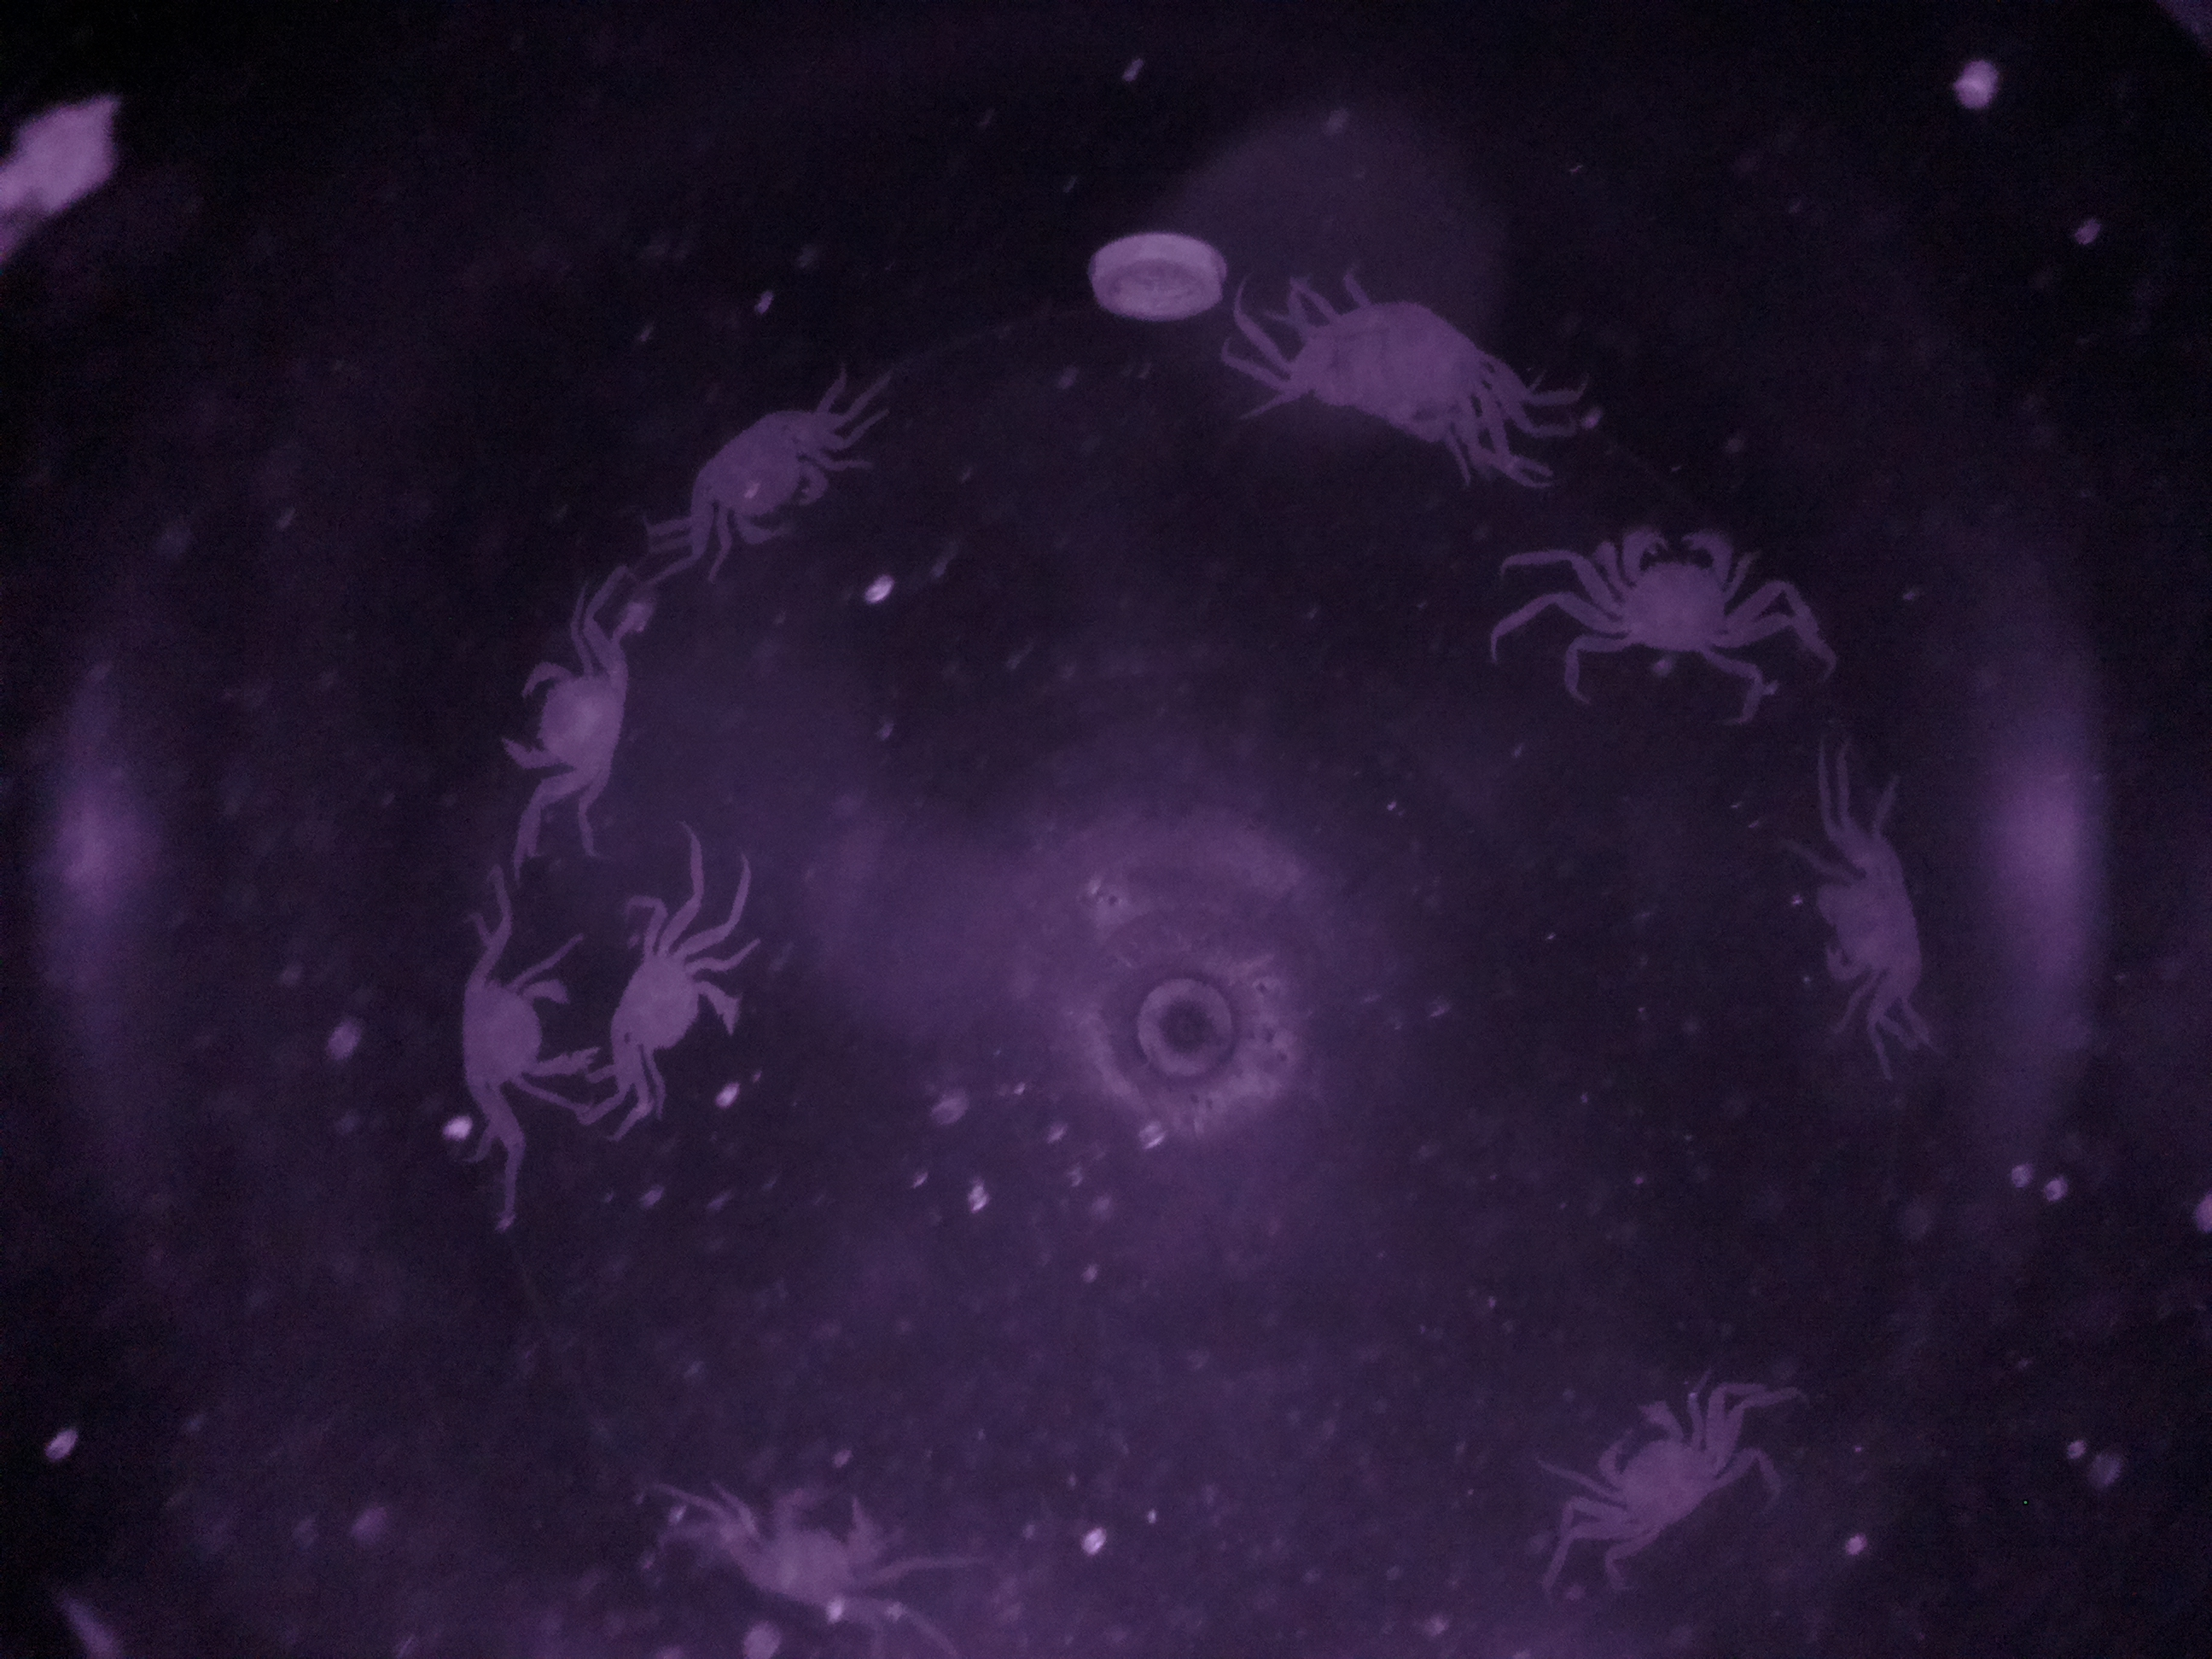Crab: (1559, 500, 1775, 685), (1792, 833, 1973, 1030), (434, 920, 596, 1140), (1562, 1378, 1747, 1568), (583, 913, 761, 1110), (489, 619, 648, 807), (678, 392, 846, 566)
